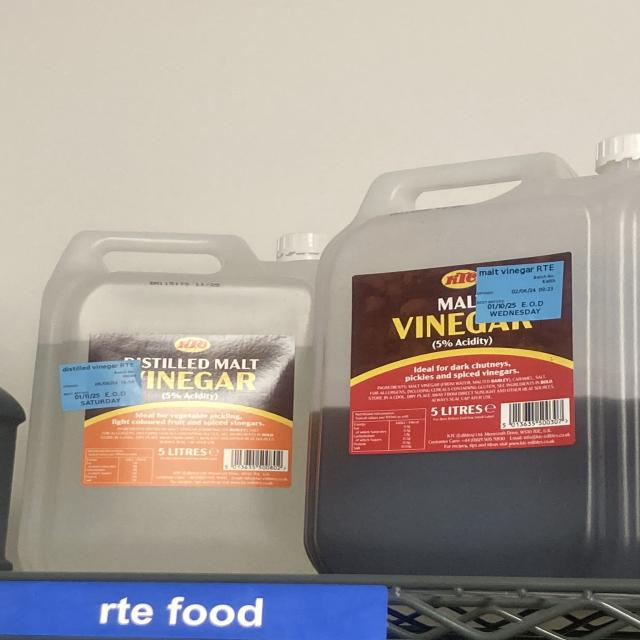product-labels: (473, 260, 566, 324), (59, 360, 146, 410)
